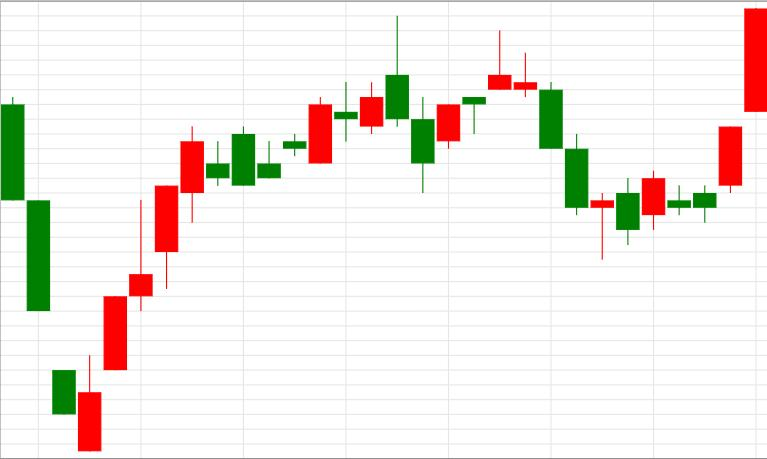shooting_star_fall: (79, 16, 408, 451)
